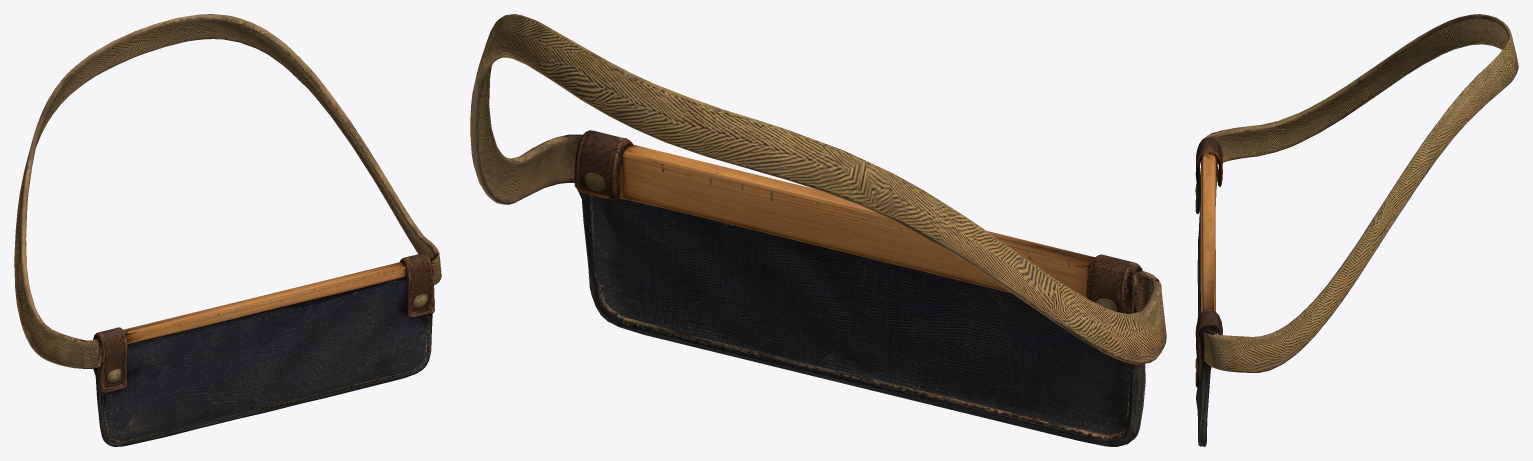
File: BeltBody.fbx
3 renders of one model, left to right at view 1: azimuth 30°, elevation 25°; view 2: azimuth 150°, elevation 25°; view 3: azimuth 270°, elevation 25°, orthographic. The views are drawn at different scales.
Parts seen in each view (by area): view 1: BeltBody_LOD0; view 2: BeltBody_LOD0; view 3: BeltBody_LOD0.
Boxes of the visible parts, x1,y1,x2,y2 form: BeltBody_LOD0: (14,14,441,446); BeltBody_LOD0: (470,14,1166,446); BeltBody_LOD0: (1195,14,1518,446).
Size of what is drawn, in the model's own units: 0.3501 by 0.2494 by 0.2171.
1 material, 1 textured.
